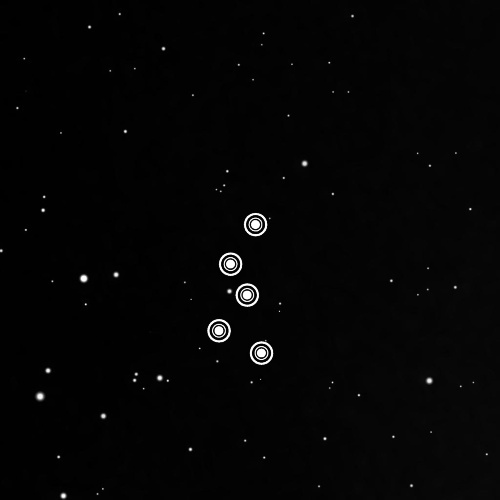cassiopeia: (202, 205, 277, 370)
